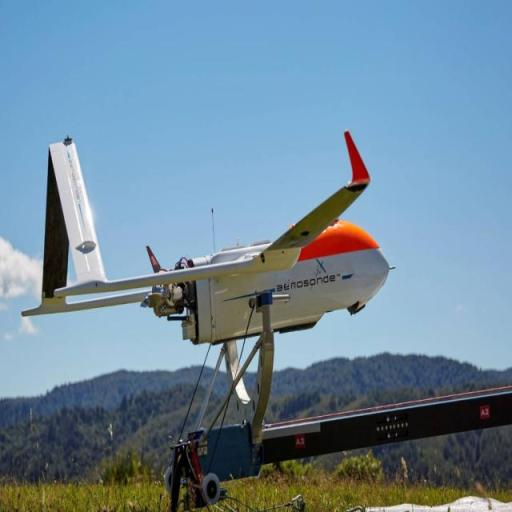uav: (22, 123, 402, 346)
